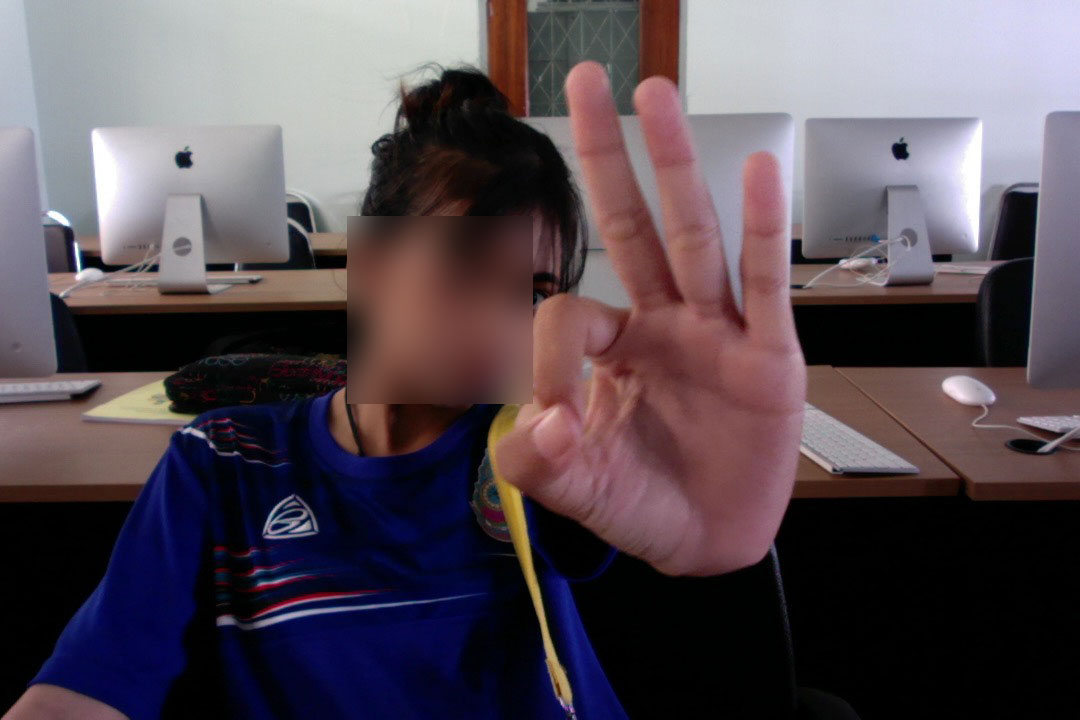for: (471, 34, 842, 604)
